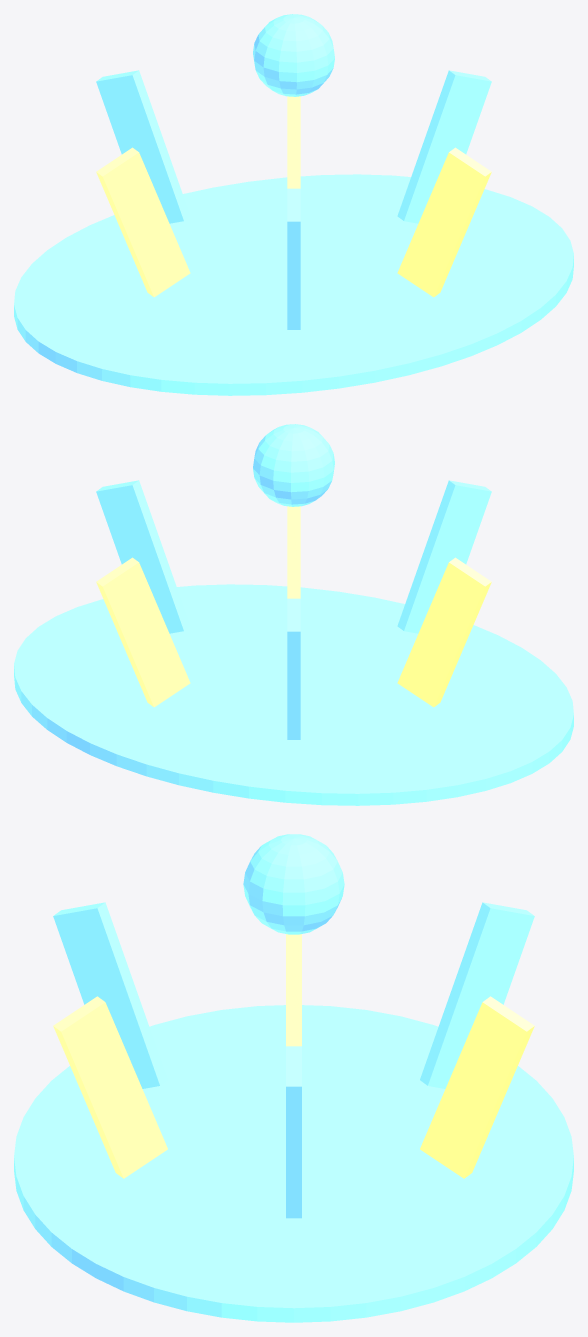
The model's file is affix_arcane_aura.glb.
3 views of the same model, one above another, from view 1: azimuth 30°, elevation 25°; view 2: azimuth 150°, elevation 25°; view 3: azimuth 270°, elevation 25° (orthographic). The views are drawn at different scales.
Parts seen in each view (by area): view 1: affix arcane aura rotating sigil, affix arcane shard 3, affix arcane shard 5, affix arcane shard 0, affix arcane shard 2, affix arcane core, affix arcane shard 4, affix arcane shard 1; view 2: affix arcane aura rotating sigil, affix arcane shard 1, affix arcane shard 3, affix arcane shard 0, affix arcane shard 4, affix arcane core, affix arcane shard 2, affix arcane shard 5; view 3: affix arcane aura rotating sigil, affix arcane shard 1, affix arcane shard 5, affix arcane shard 2, affix arcane shard 4, affix arcane core, affix arcane shard 0, affix arcane shard 3.
Part boxes in pixels (x1,y1,x2,y2): affix arcane aura rotating sigil: (14,174,573,395); affix arcane shard 3: (96,147,190,297); affix arcane shard 5: (397,147,491,297); affix arcane shard 0: (397,70,491,223); affix arcane shard 2: (96,70,190,223); affix arcane core: (253,14,334,96); affix arcane shard 4: (287,188,300,329); affix arcane shard 1: (287,96,300,188); affix arcane aura rotating sigil: (14,584,573,805); affix arcane shard 1: (96,557,190,707); affix arcane shard 3: (397,557,491,707); affix arcane shard 0: (96,480,190,633); affix arcane shard 4: (397,480,491,633); affix arcane core: (253,424,334,506); affix arcane shard 2: (287,598,300,739); affix arcane shard 5: (287,506,300,598); affix arcane aura rotating sigil: (14,1005,573,1322); affix arcane shard 1: (420,996,534,1178); affix arcane shard 5: (53,996,167,1178); affix arcane shard 2: (420,902,534,1088); affix arcane shard 4: (53,902,167,1088); affix arcane core: (243,834,344,934); affix arcane shard 0: (286,1046,301,1218); affix arcane shard 3: (286,934,301,1046).
Bounding box in the file's own units: 1.56 × 0.7975 × 1.22.
